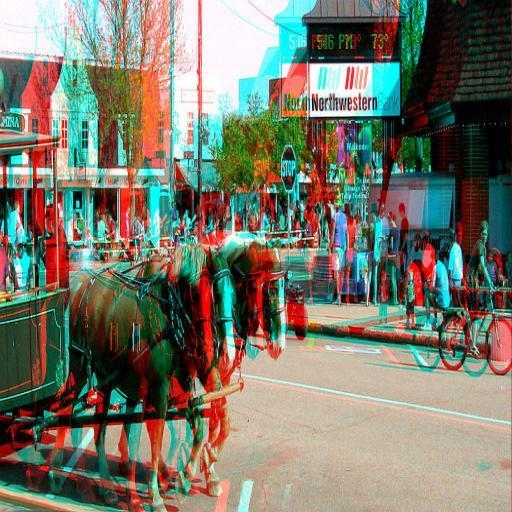horse: (122, 240, 289, 498), (47, 250, 207, 512), (81, 244, 231, 500)
